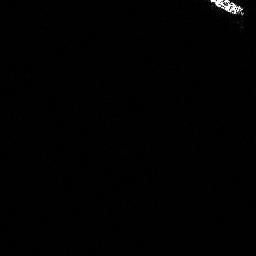ship: (206, 1, 246, 17)
